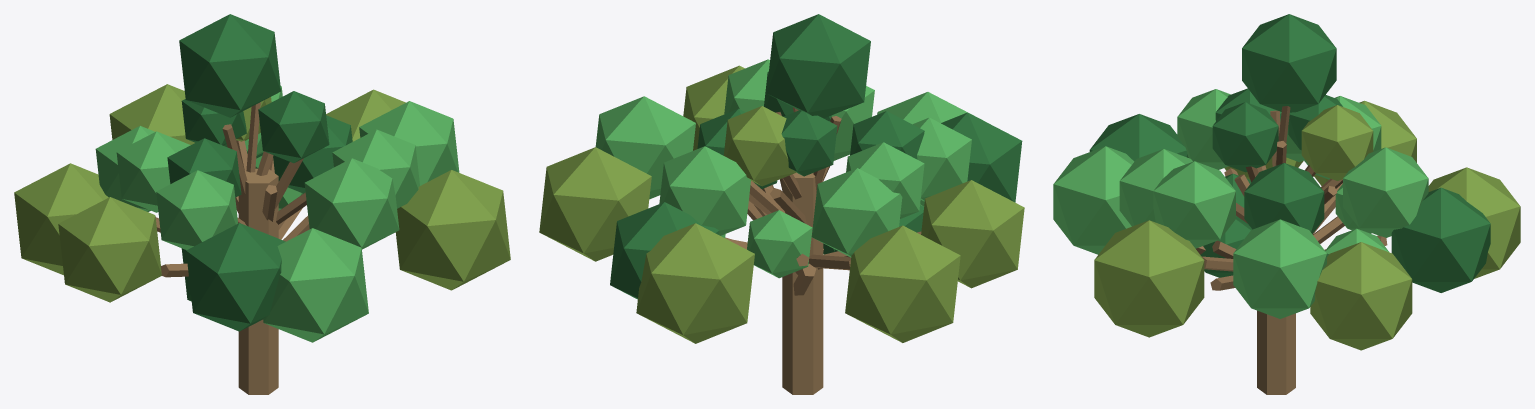
File: Tree_05.glb
The picture shows the model from 3 angles, left to right: view 1: azimuth 30°, elevation 25°; view 2: azimuth 150°, elevation 25°; view 3: azimuth 270°, elevation 25°; orthographic projection. The views are drawn at different scales.
Parts seen in each view (by area): view 1: T05_Sphere_07, T05_Sphere_11, T05_Sphere_10, T05_Sphere_03, T05_Sphere_06, T05_Sphere_16, T05_Sphere_05, T05_Sphere_15, T05_Trunk, T05_Sphere_12, T05_Sphere_22, T05_Sphere_19 (+10 smaller); view 2: T05_Sphere_09, T05_Sphere_05, T05_Sphere_08, T05_Sphere_03, T05_Sphere_10, T05_Trunk, T05_Sphere_18, T05_Sphere_12, T05_Sphere_14, T05_Sphere_23, T05_Sphere_13, T05_Sphere_06 (+15 smaller); view 3: T05_Sphere_07, T05_Sphere_08, T05_Sphere_13, T05_Sphere_03, T05_Sphere_12, T05_Sphere_11, T05_Sphere_18, T05_Sphere_20, T05_Sphere_17, T05_Sphere_09, T05_Sphere_23, T05_Sphere_22 (+11 smaller).
Boxes of the visible parts, x1=… form: T05_Sphere_07: x1=395, y1=170, x2=510, y2=290; T05_Sphere_11: x1=263, y1=228, x2=368, y2=342; T05_Sphere_10: x1=58, y1=197, x2=161, y2=302; T05_Sphere_03: x1=179, y1=14, x2=280, y2=117; T05_Sphere_06: x1=186, y1=223, x2=285, y2=331; T05_Sphere_16: x1=304, y1=158, x2=399, y2=249; T05_Sphere_05: x1=14, y1=163, x2=108, y2=275; T05_Sphere_15: x1=156, y1=170, x2=237, y2=250; T05_Trunk: x1=238, y1=168, x2=278, y2=394; T05_Sphere_12: x1=359, y1=101, x2=459, y2=185; T05_Sphere_22: x1=258, y1=91, x2=329, y2=163; T05_Sphere_19: x1=116, y1=131, x2=190, y2=212; T05_Sphere_09: x1=636, y1=223, x2=754, y2=343; T05_Sphere_05: x1=845, y1=225, x2=960, y2=342; T05_Sphere_08: x1=539, y1=147, x2=651, y2=261; T05_Sphere_03: x1=766, y1=14, x2=870, y2=118; T05_Sphere_10: x1=921, y1=180, x2=1024, y2=288; T05_Trunk: x1=782, y1=172, x2=823, y2=394; T05_Sphere_18: x1=659, y1=146, x2=750, y2=235; T05_Sphere_12: x1=595, y1=96, x2=695, y2=199; T05_Sphere_14: x1=811, y1=168, x2=902, y2=257; T05_Sphere_23: x1=723, y1=106, x2=796, y2=186; T05_Sphere_13: x1=610, y1=202, x2=719, y2=299; T05_Sphere_06: x1=941, y1=112, x2=1022, y2=202; T05_Sphere_07: x1=1094, y1=220, x2=1204, y2=337; T05_Sphere_08: x1=1310, y1=242, x2=1412, y2=350; T05_Sphere_13: x1=1391, y1=187, x2=1490, y2=292; T05_Sphere_03: x1=1242, y1=14, x2=1336, y2=112; T05_Sphere_12: x1=1233, y1=219, x2=1326, y2=318; T05_Sphere_11: x1=1053, y1=146, x2=1134, y2=254; T05_Sphere_18: x1=1343, y1=147, x2=1428, y2=237; T05_Sphere_20: x1=1153, y1=161, x2=1235, y2=248; T05_Sphere_17: x1=1244, y1=163, x2=1324, y2=233; T05_Sphere_09: x1=1428, y1=167, x2=1520, y2=278; T05_Sphere_23: x1=1301, y1=105, x2=1373, y2=180; T05_Sphere_22: x1=1212, y1=102, x2=1278, y2=172.
Bounding box in the file's own units: 2.83 × 2.48 × 2.88.
